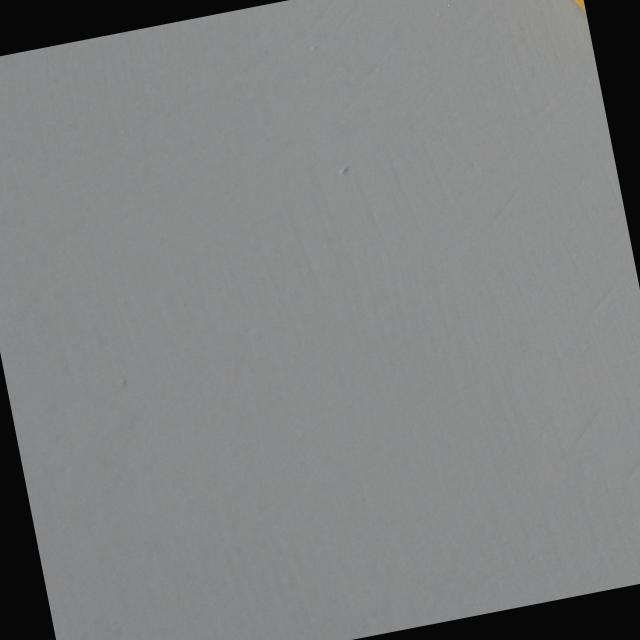dañado: (548, 0, 590, 40)
